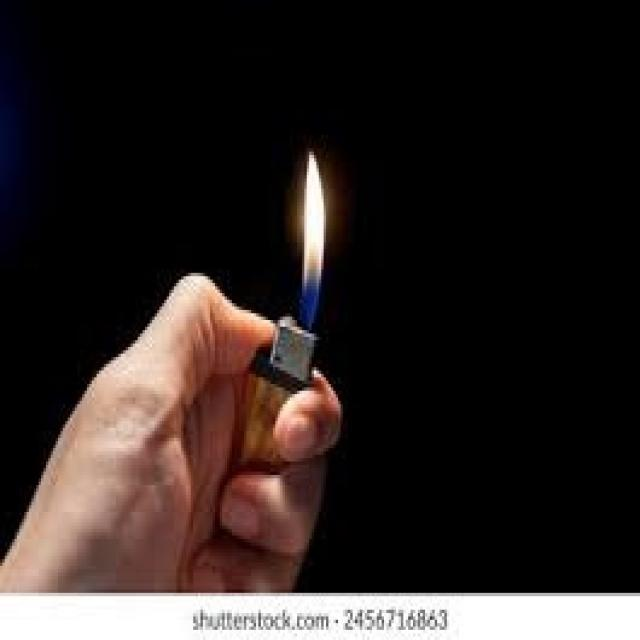fire: (303, 151, 325, 330)
